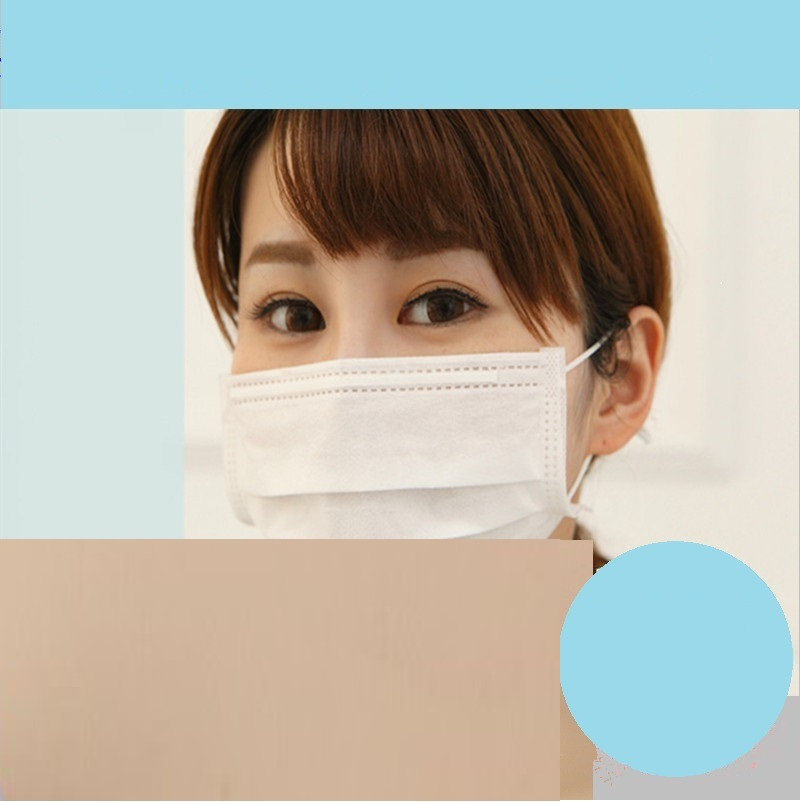face_mask: (227, 151, 576, 575)
